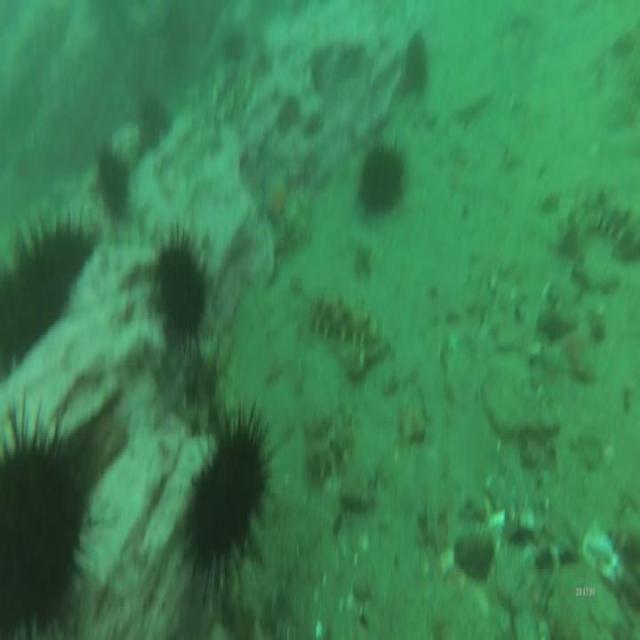echinus: (1, 400, 83, 640), (186, 411, 270, 581), (4, 210, 90, 359), (152, 227, 212, 351), (357, 134, 409, 229), (92, 138, 130, 222), (133, 88, 171, 152), (400, 24, 429, 101)
holothurian: (307, 280, 383, 357), (298, 390, 356, 487), (583, 177, 640, 267)
starfish: (260, 165, 294, 232)
